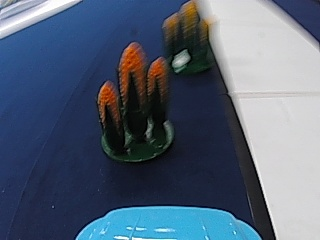corn: (94, 42, 171, 163), (159, 3, 212, 75)
